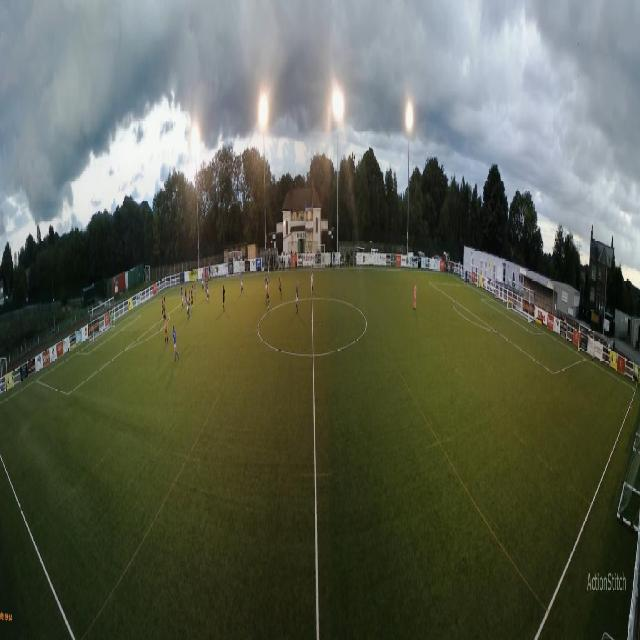ball: (207, 297, 208, 303)
player: (165, 314, 169, 346), (173, 323, 176, 365), (413, 280, 417, 311), (240, 271, 244, 298), (222, 285, 226, 311), (278, 270, 282, 295), (311, 263, 314, 295), (267, 281, 270, 310), (163, 298, 167, 319), (161, 291, 164, 318), (186, 294, 189, 319), (268, 258, 271, 282), (296, 278, 298, 313), (201, 270, 204, 291), (188, 290, 190, 316), (191, 284, 193, 310), (181, 286, 183, 311), (112, 307, 114, 331), (194, 278, 196, 300), (185, 282, 187, 301), (207, 280, 209, 298), (205, 280, 207, 296), (265, 274, 267, 290)
